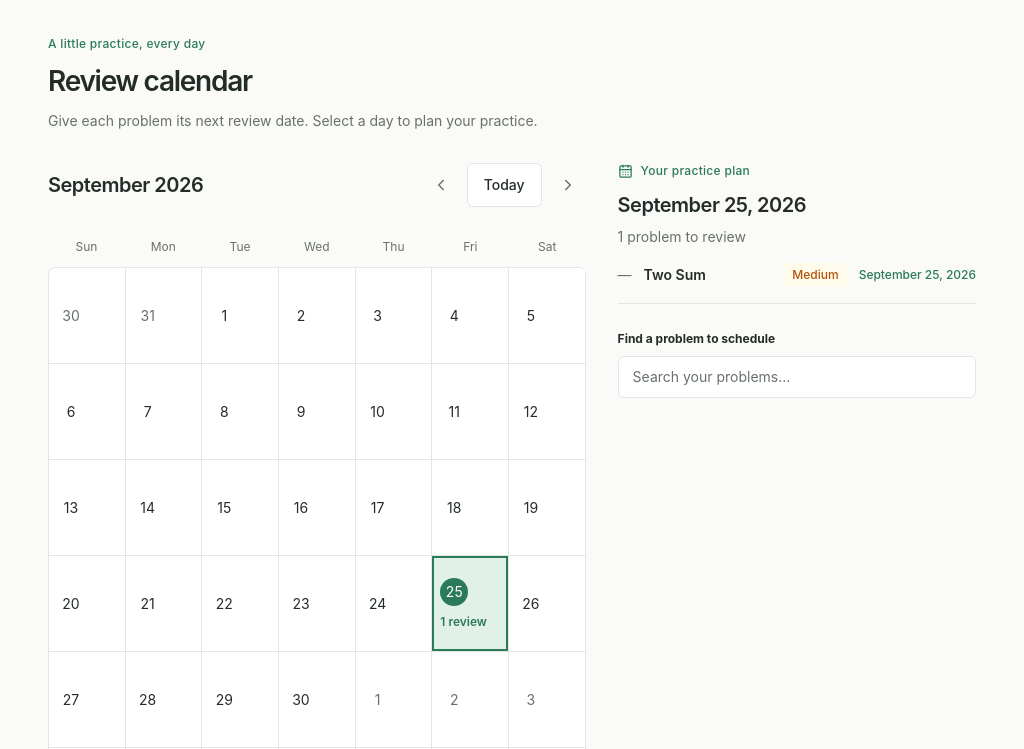
it: reschedules and clears a scheduled review, preserving errors for retry
The width and height of the screenshot is (1024, 749).
Click the button "September 25, 2026" at x=917, y=275, box [859,267,976,283]
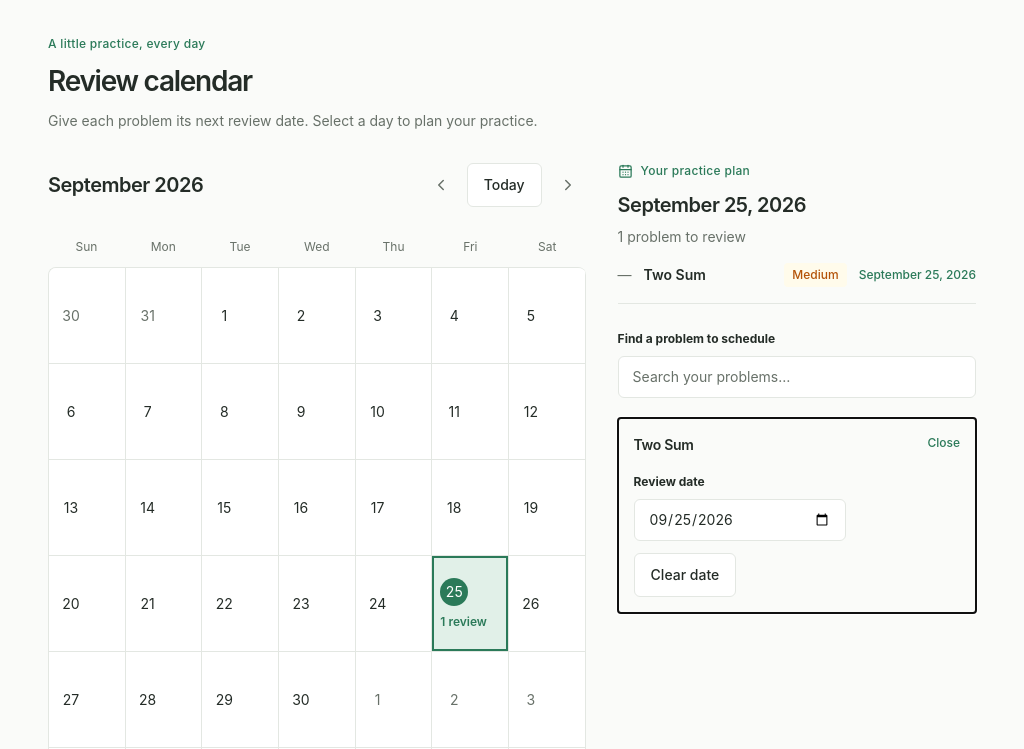
Type "2028-02-29" into the date field labelled "Review date" at x=740, y=520, box [634,499,846,541]
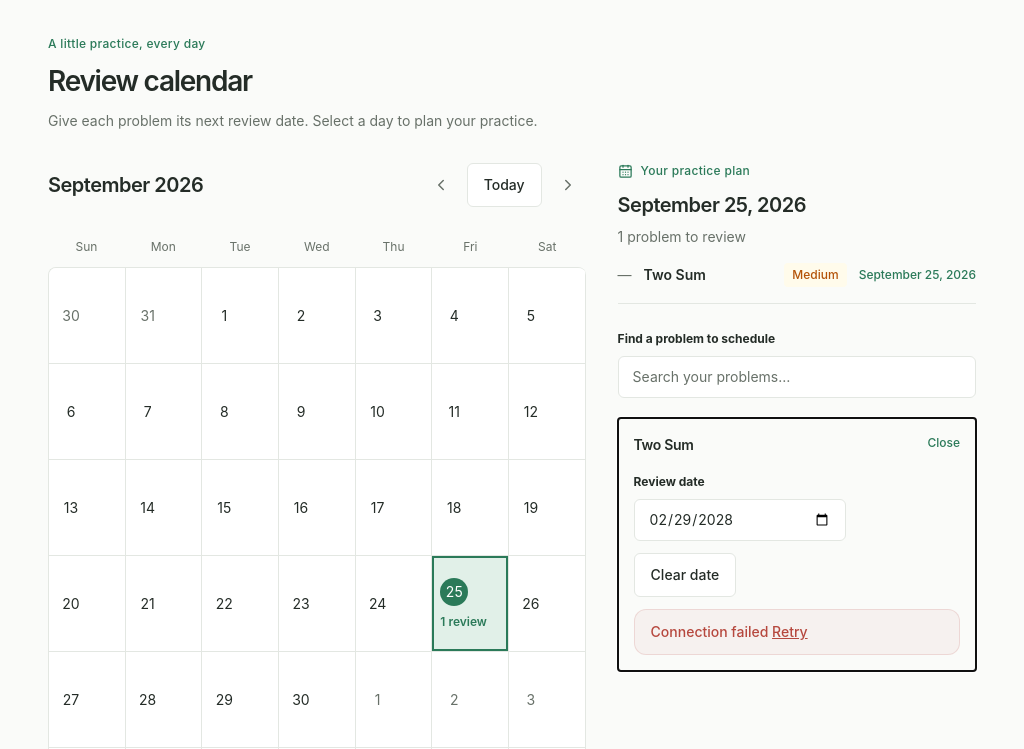
Now the message shows "Connection failed", box [651,623,768,640]
Click the button "Retry" at x=790, y=632, box [772,622,808,642]
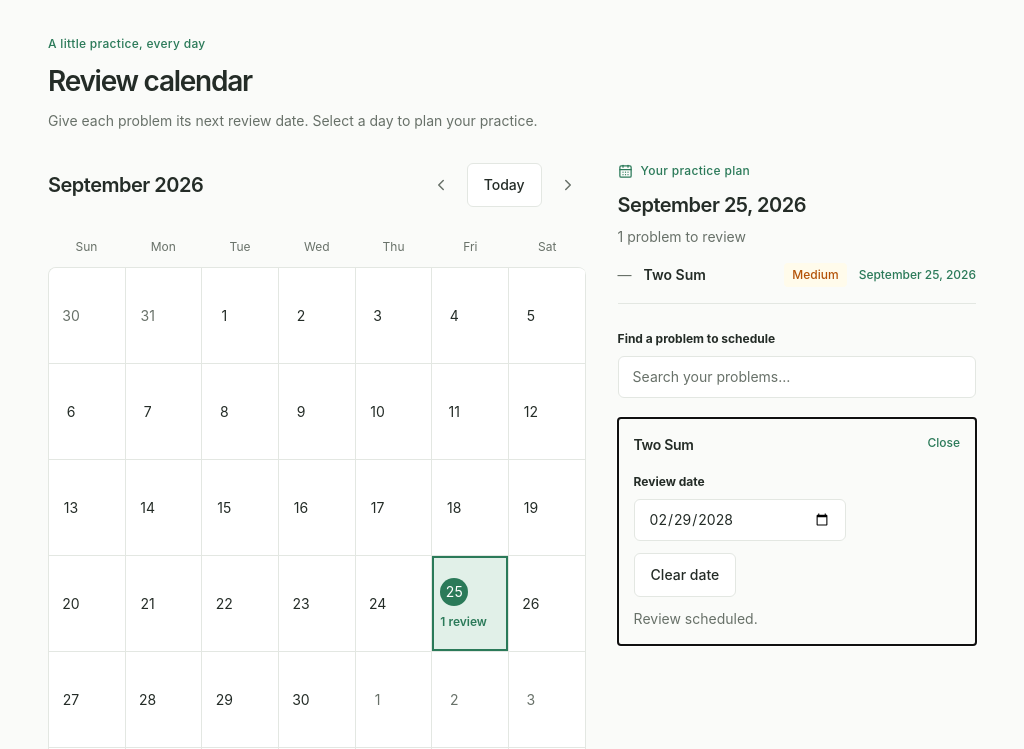
Now the message reads "Review scheduled.", box [634,610,758,627]
Click the button "Clear date" at x=685, y=575, box [634,553,736,597]
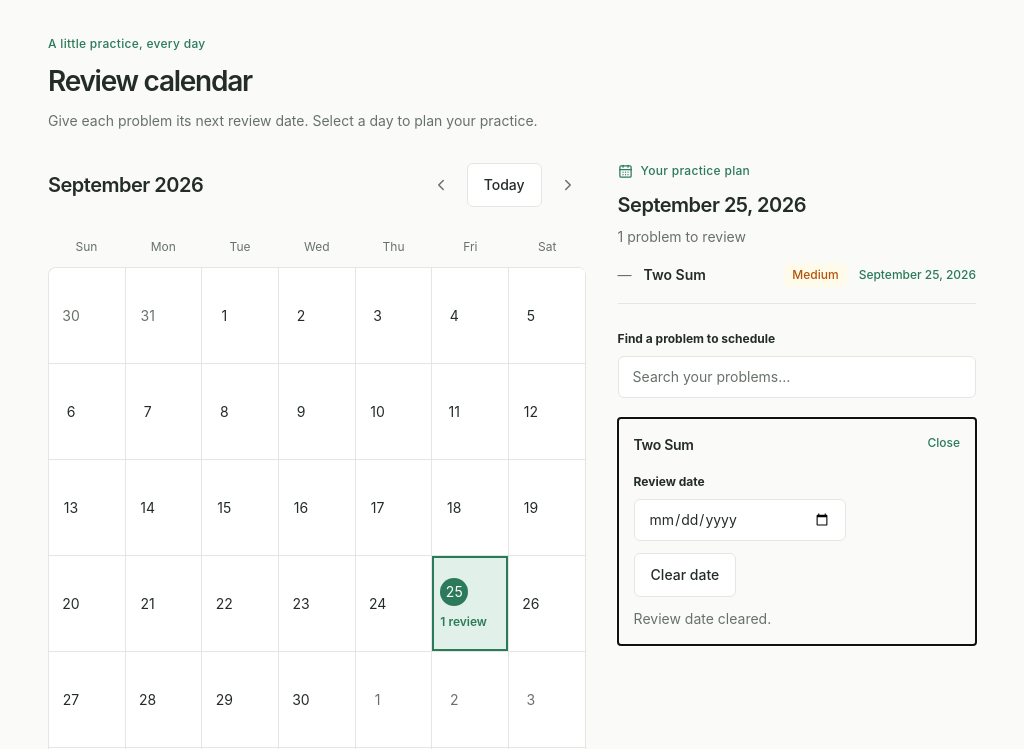
Now the message reads "Review date cleared.", box [634,610,771,627]
